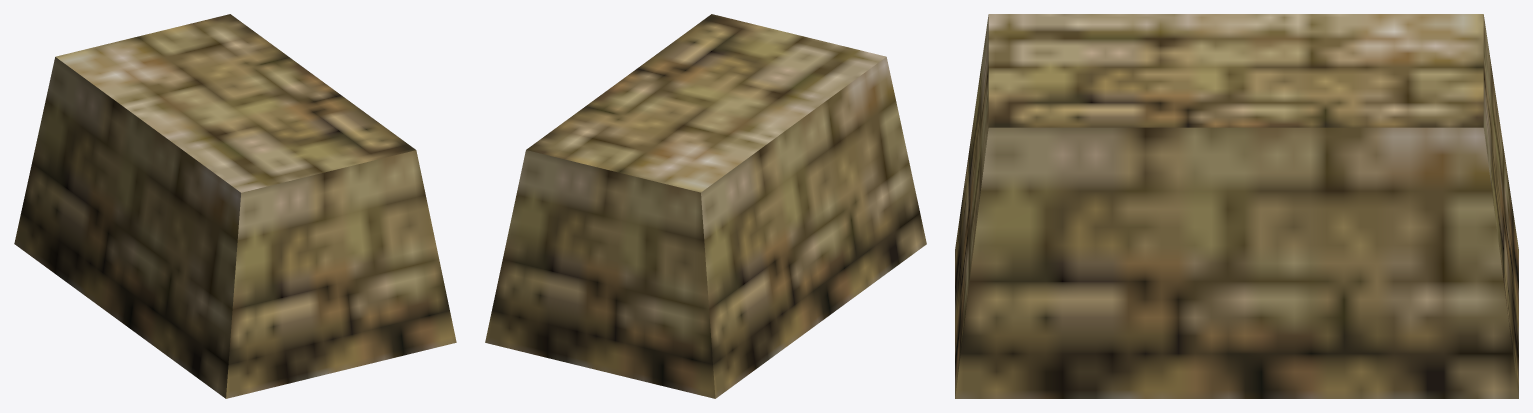
File: building_construction_e_medium_brick.glb
3 views of the same model, side by side, from view 1: azimuth 30°, elevation 25°; view 2: azimuth 150°, elevation 25°; view 3: azimuth 270°, elevation 25° (orthographic). The views are drawn at different scales.
Parts seen in each view (by area): view 1: MeshRoot; view 2: MeshRoot; view 3: MeshRoot.
Part boxes in pixels (x1,y1,x2,y2): MeshRoot: [14, 14, 456, 398]; MeshRoot: [485, 14, 926, 398]; MeshRoot: [955, 14, 1518, 398].
Size of the model in its own units: 0.8281 by 0.6523 by 1.32.
Materials: 1 (1 with a texture image).
